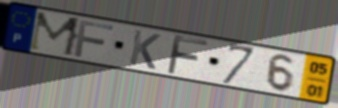6: (265, 53, 297, 94)
7: (220, 42, 258, 86)
F: (164, 33, 210, 77), (72, 18, 116, 59)
K: (127, 28, 163, 72)
M: (26, 10, 84, 59)
